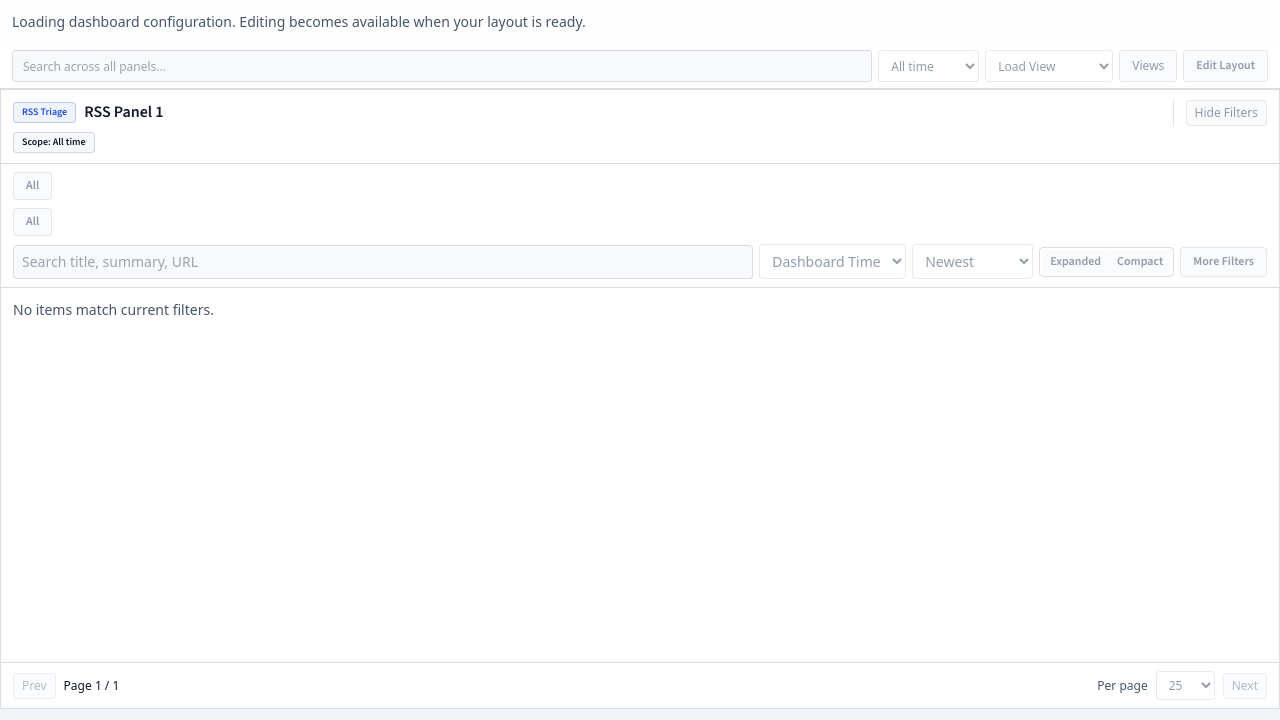
Test: DashboardPage DOM workflows › waits for authoritative panel defaults before persisting a first-time dashboard layout
What coordinates should you click on to do the following:
click the button "Edit Layout"
I would click on:
 (1226, 66)
Its box is top-left (1183, 50), bottom-right (1268, 82).
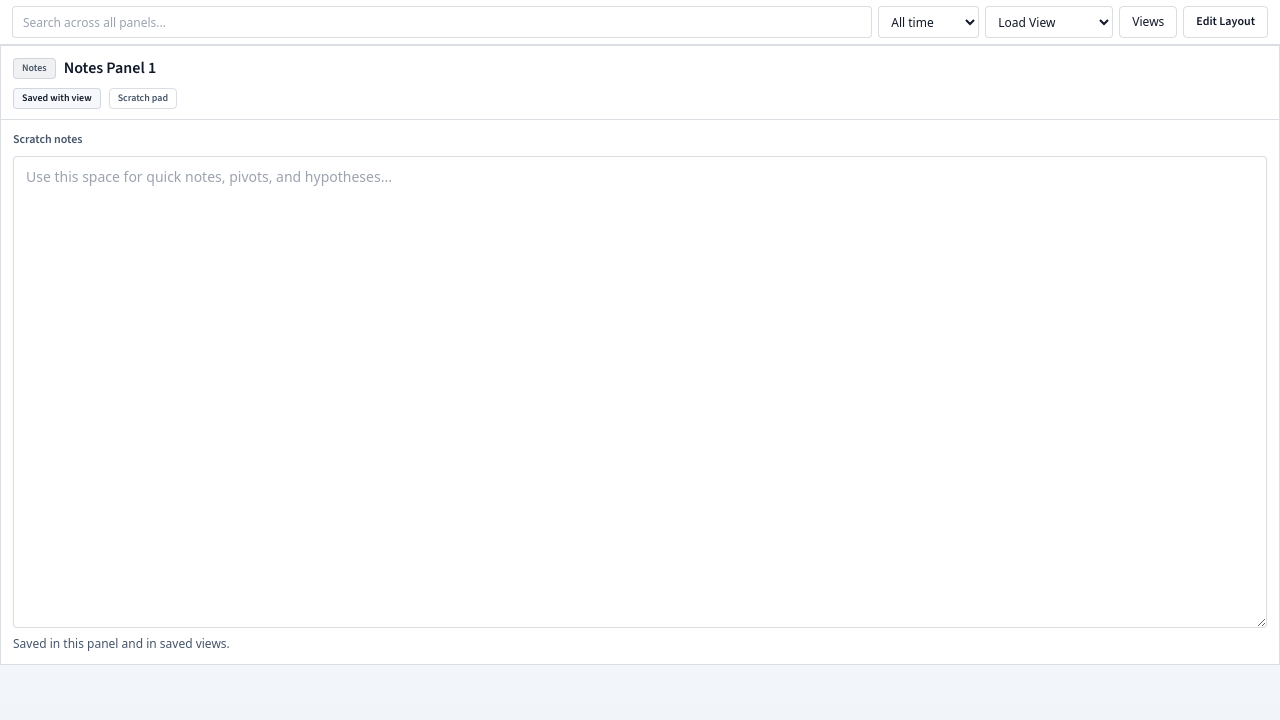
expect the button "Edit Layout" is enabled: met, box top-left (1183, 6), bottom-right (1268, 38)
